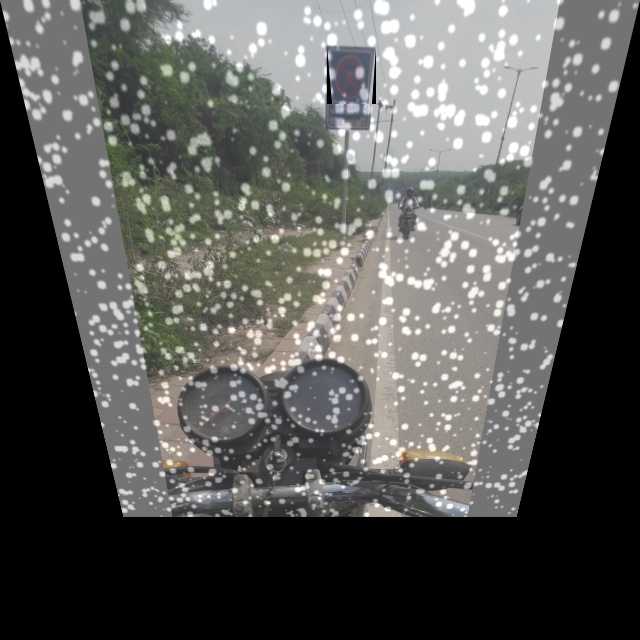No_Stopping_or_Standing: (327, 46, 376, 104)
